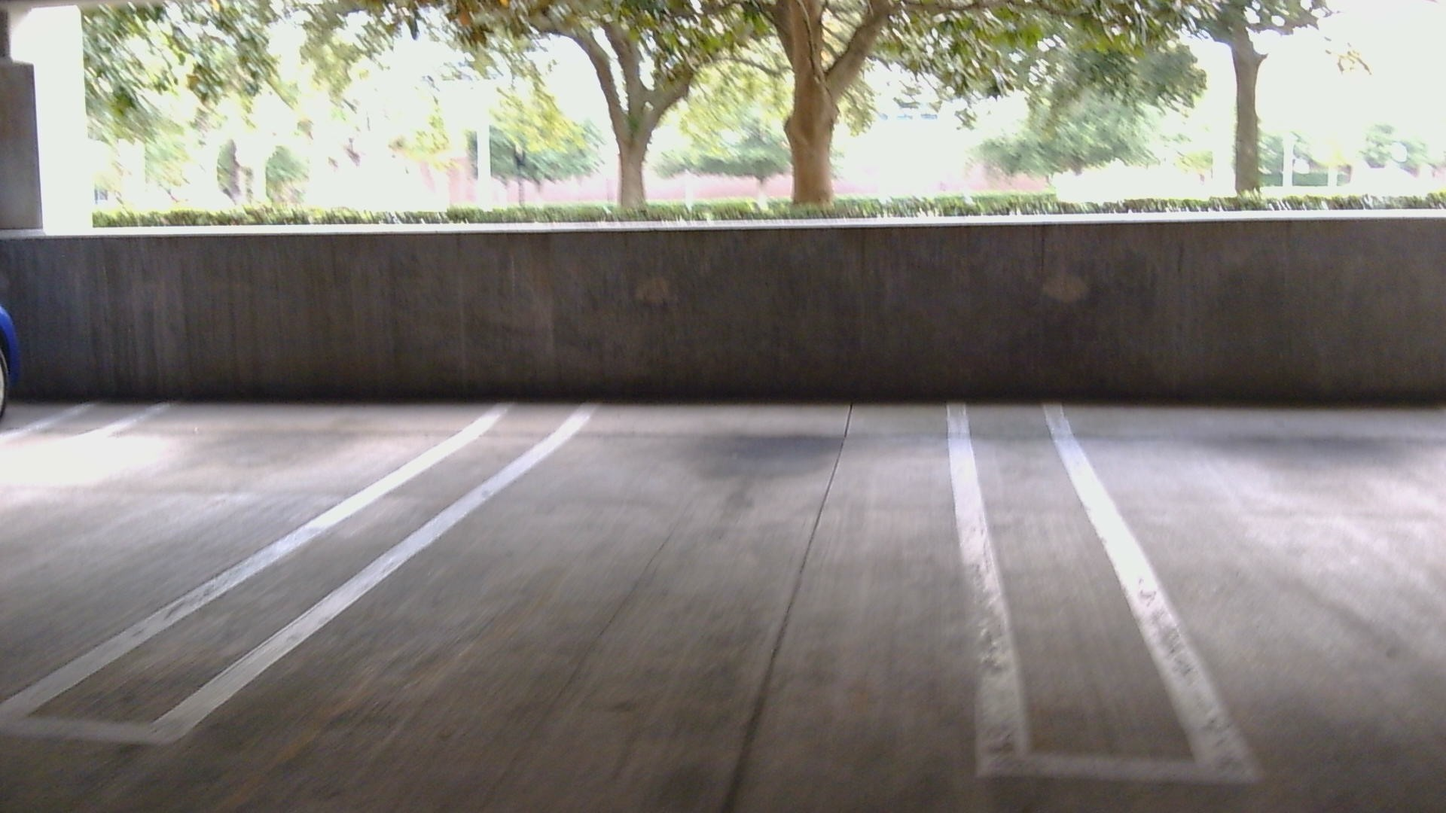empty_spot: (82, 235, 1121, 762), (0, 275, 520, 724), (1019, 266, 1446, 757)
